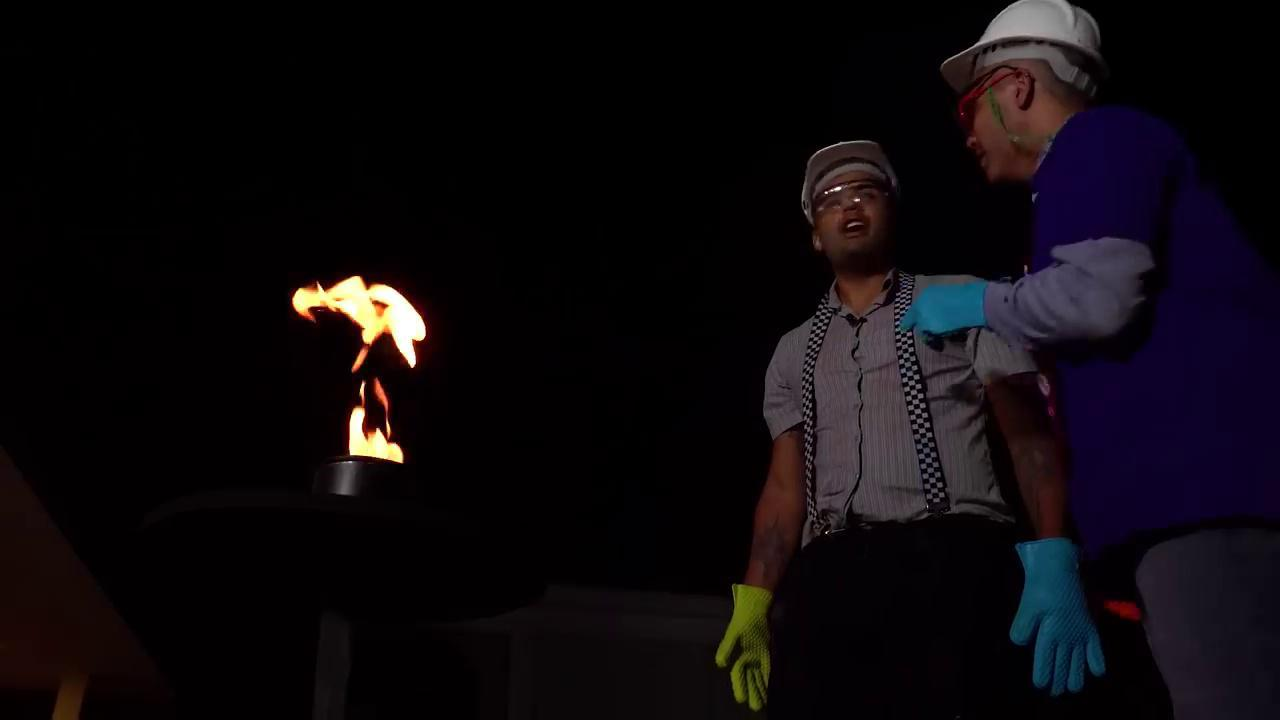Fire: (297, 270, 474, 459)
